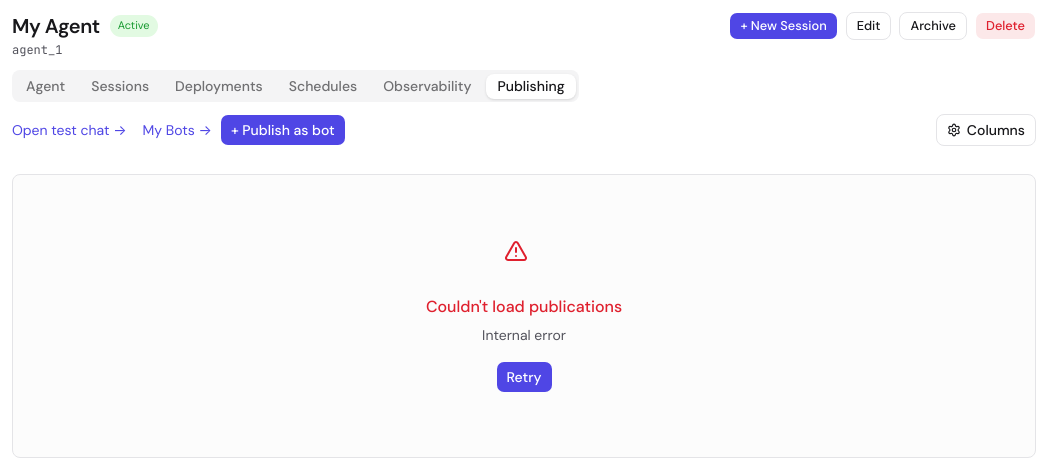
Test: <AgentPublishingTab /> › shows an error state with Retry instead of the empty state when the fetch fails
This screenshot has width=1048, height=475.
Check: the text "Couldn't load publications" is shown, box top-left (426, 296), bottom-right (622, 317)
Check: the text "Internal error" is shown, box top-left (482, 326), bottom-right (566, 344)
Click the button "Retry": click(524, 377) top-left (496, 361), bottom-right (552, 393)
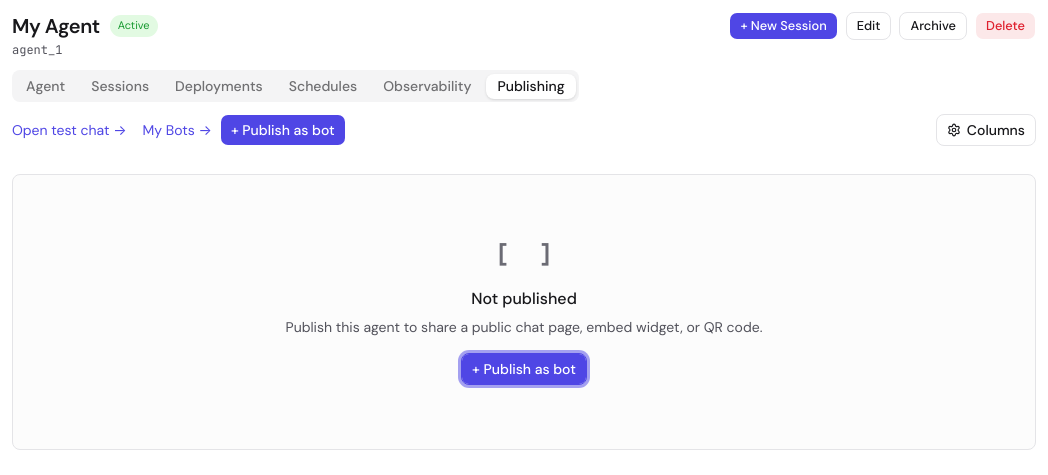
Check: the text "Not published" is shown, box top-left (471, 288), bottom-right (577, 309)
